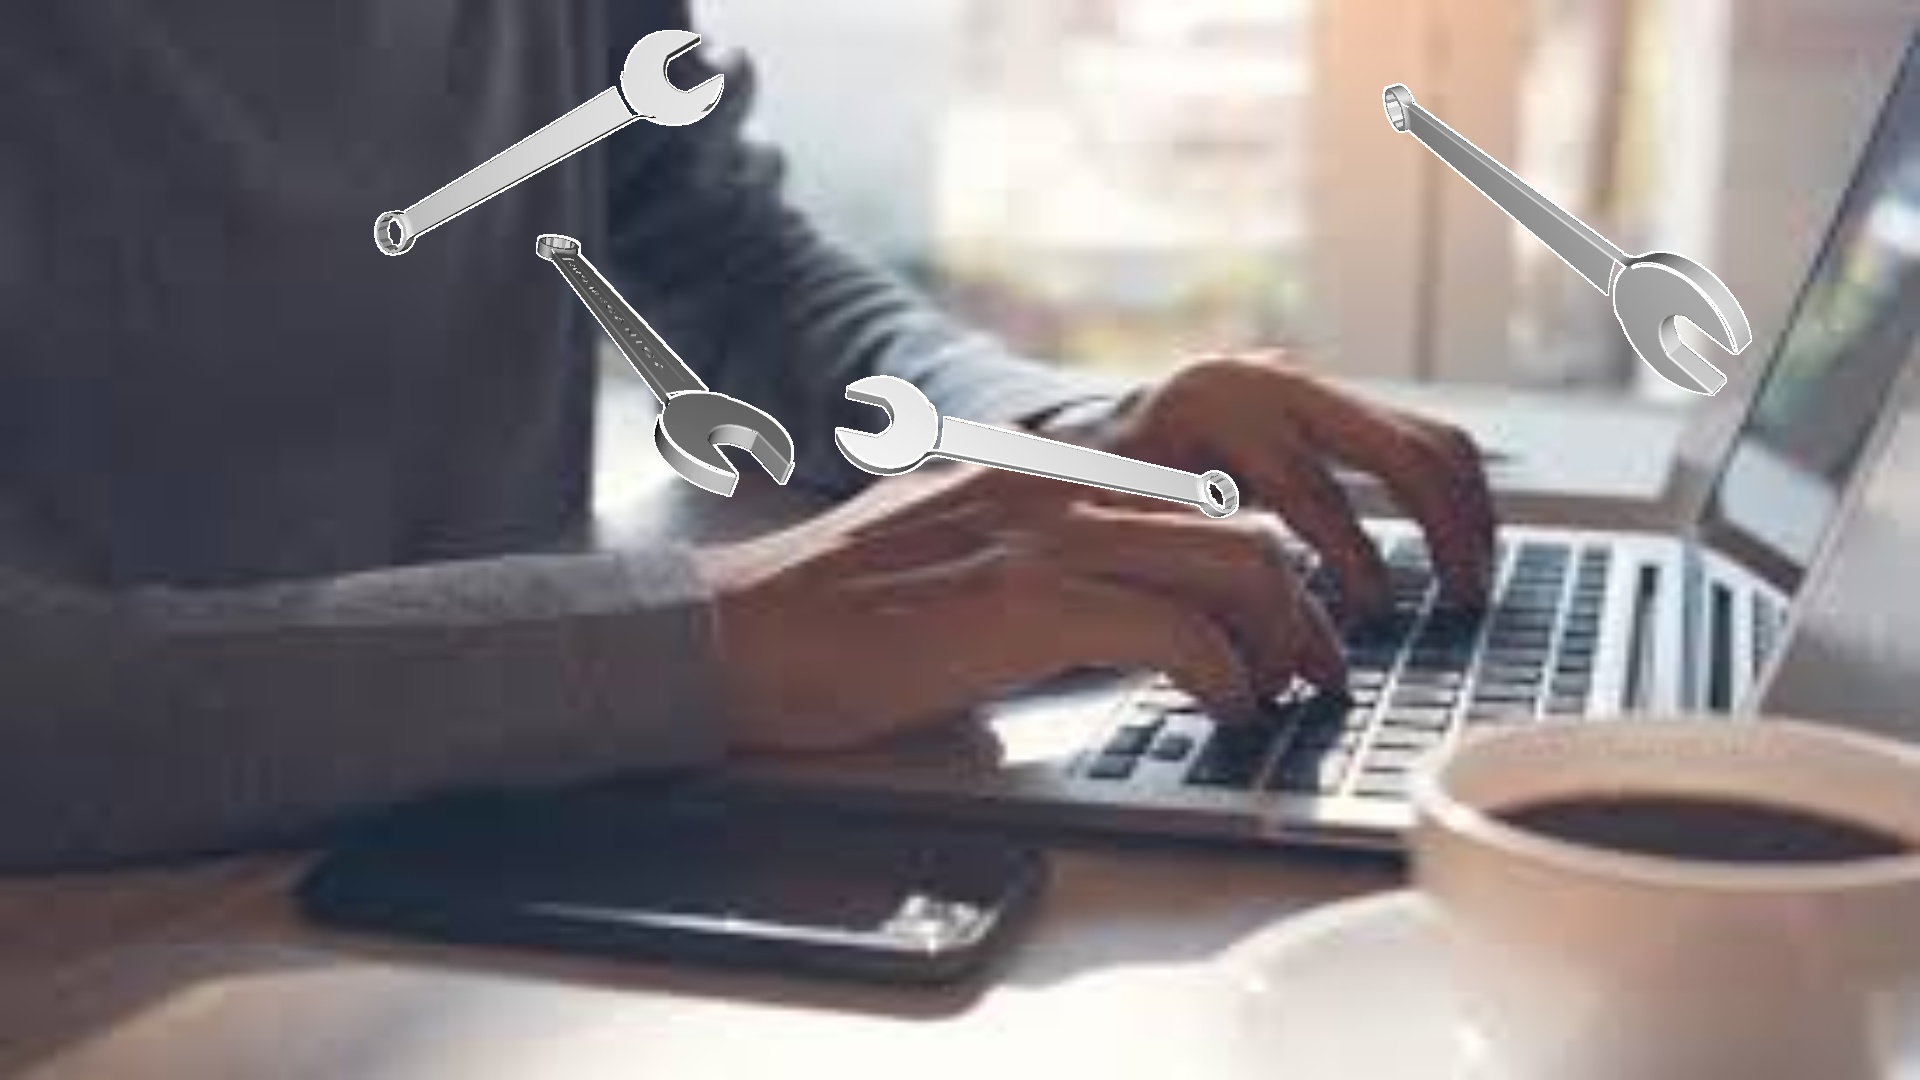Mixed Key: (1382, 83, 1751, 395), (374, 30, 723, 255), (536, 234, 794, 496), (835, 375, 1238, 517)
